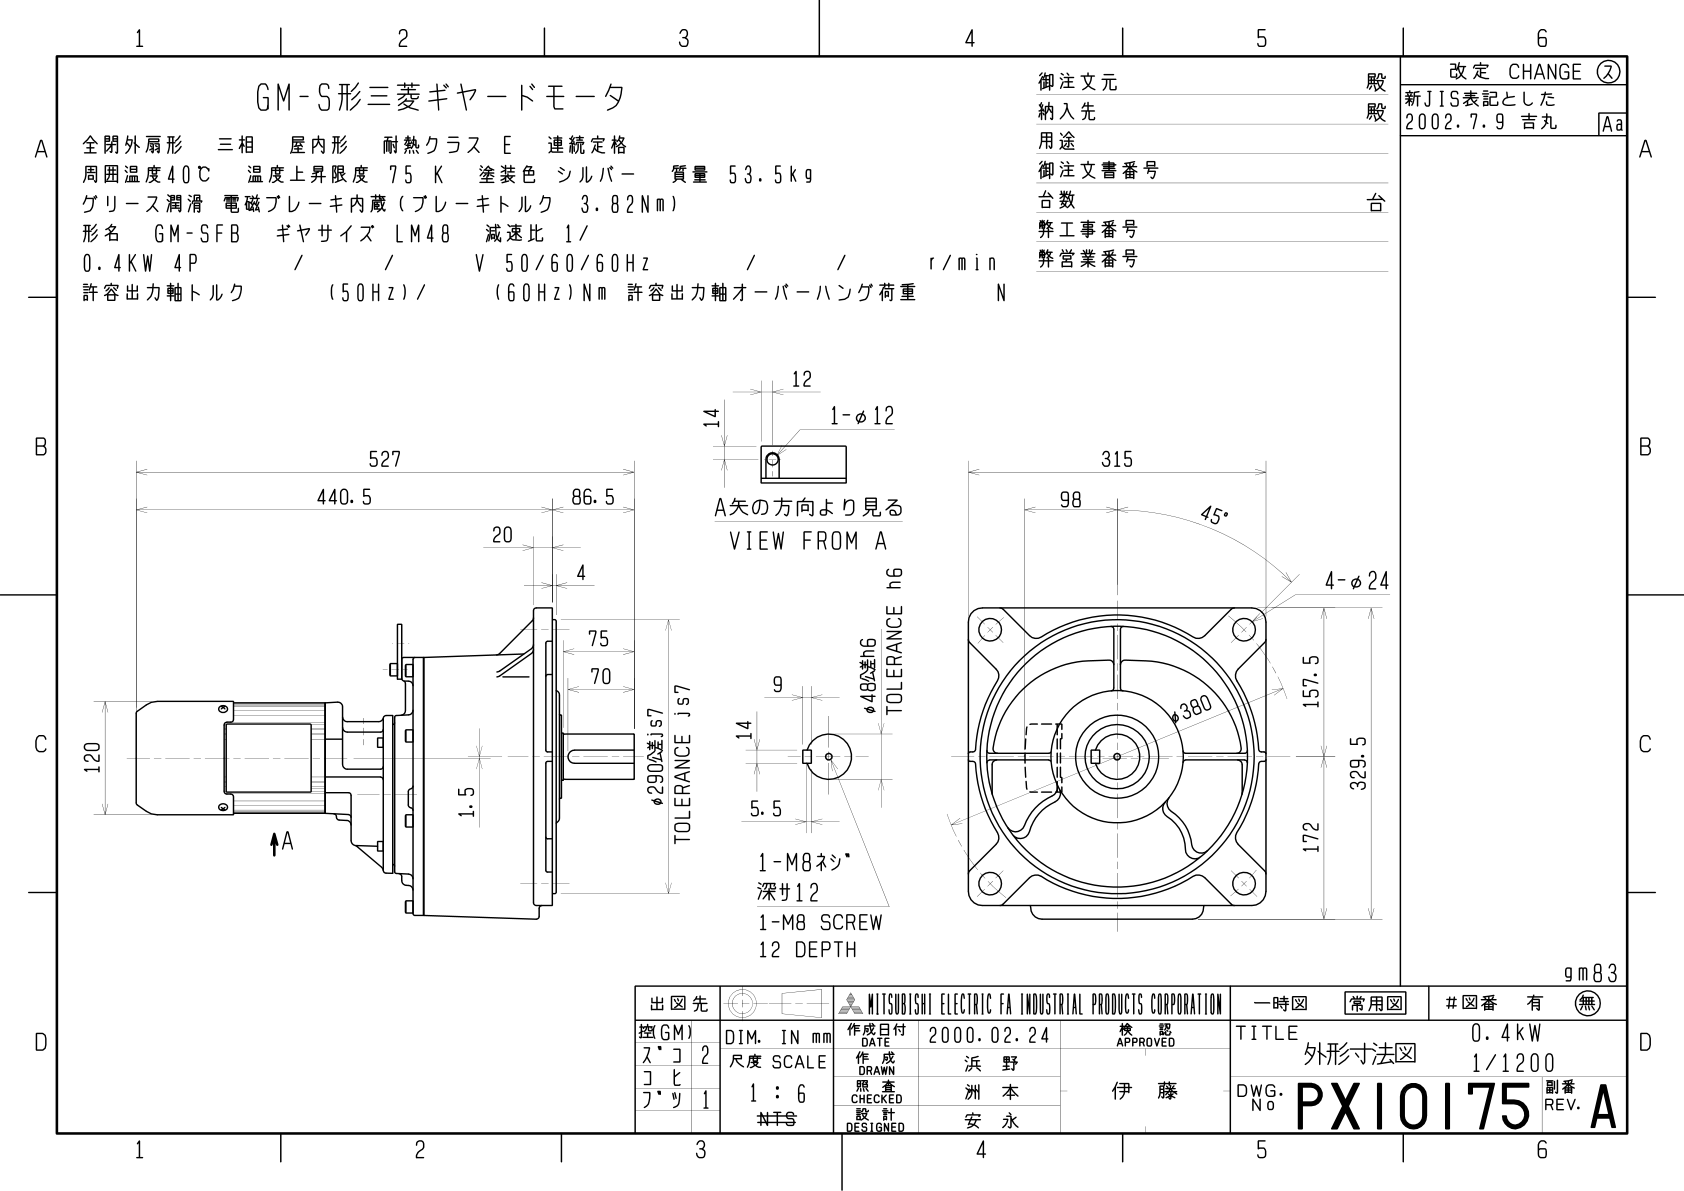GM_S_屋内＿三相_フランジ: (63, 347, 1395, 971)
